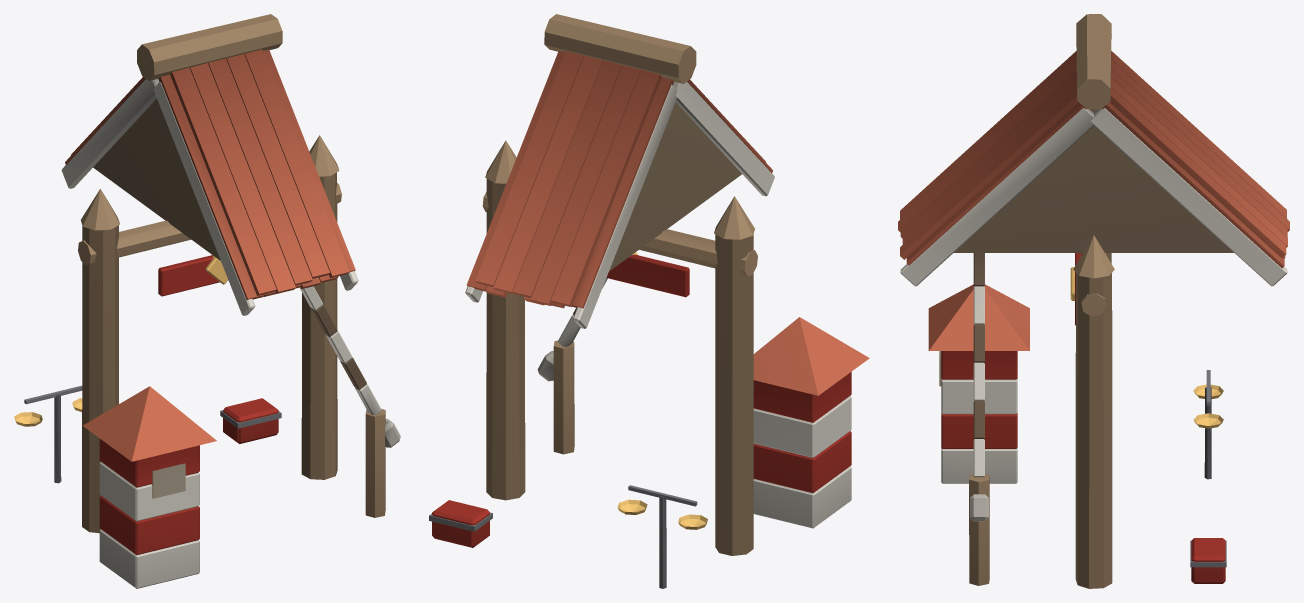
Rendered from bld_tamozhnya.glb.
3 views of the same model, side by side, from view 1: azimuth 30°, elevation 25°; view 2: azimuth 150°, elevation 25°; view 3: azimuth 270°, elevation 25° (orthographic). The views are drawn at different scales.
Parts seen in each view (by area): view 1: tamozhnya; view 2: tamozhnya; view 3: tamozhnya.
Part boxes in pixels (left/top/right/bottom): tamozhnya: left=14, top=14, right=400, bottom=588; tamozhnya: left=429, top=14, right=869, bottom=588; tamozhnya: left=898, top=14, right=1289, bottom=588.
Bounding box in the file's own units: 0.9025 × 1.39 × 1.03.
